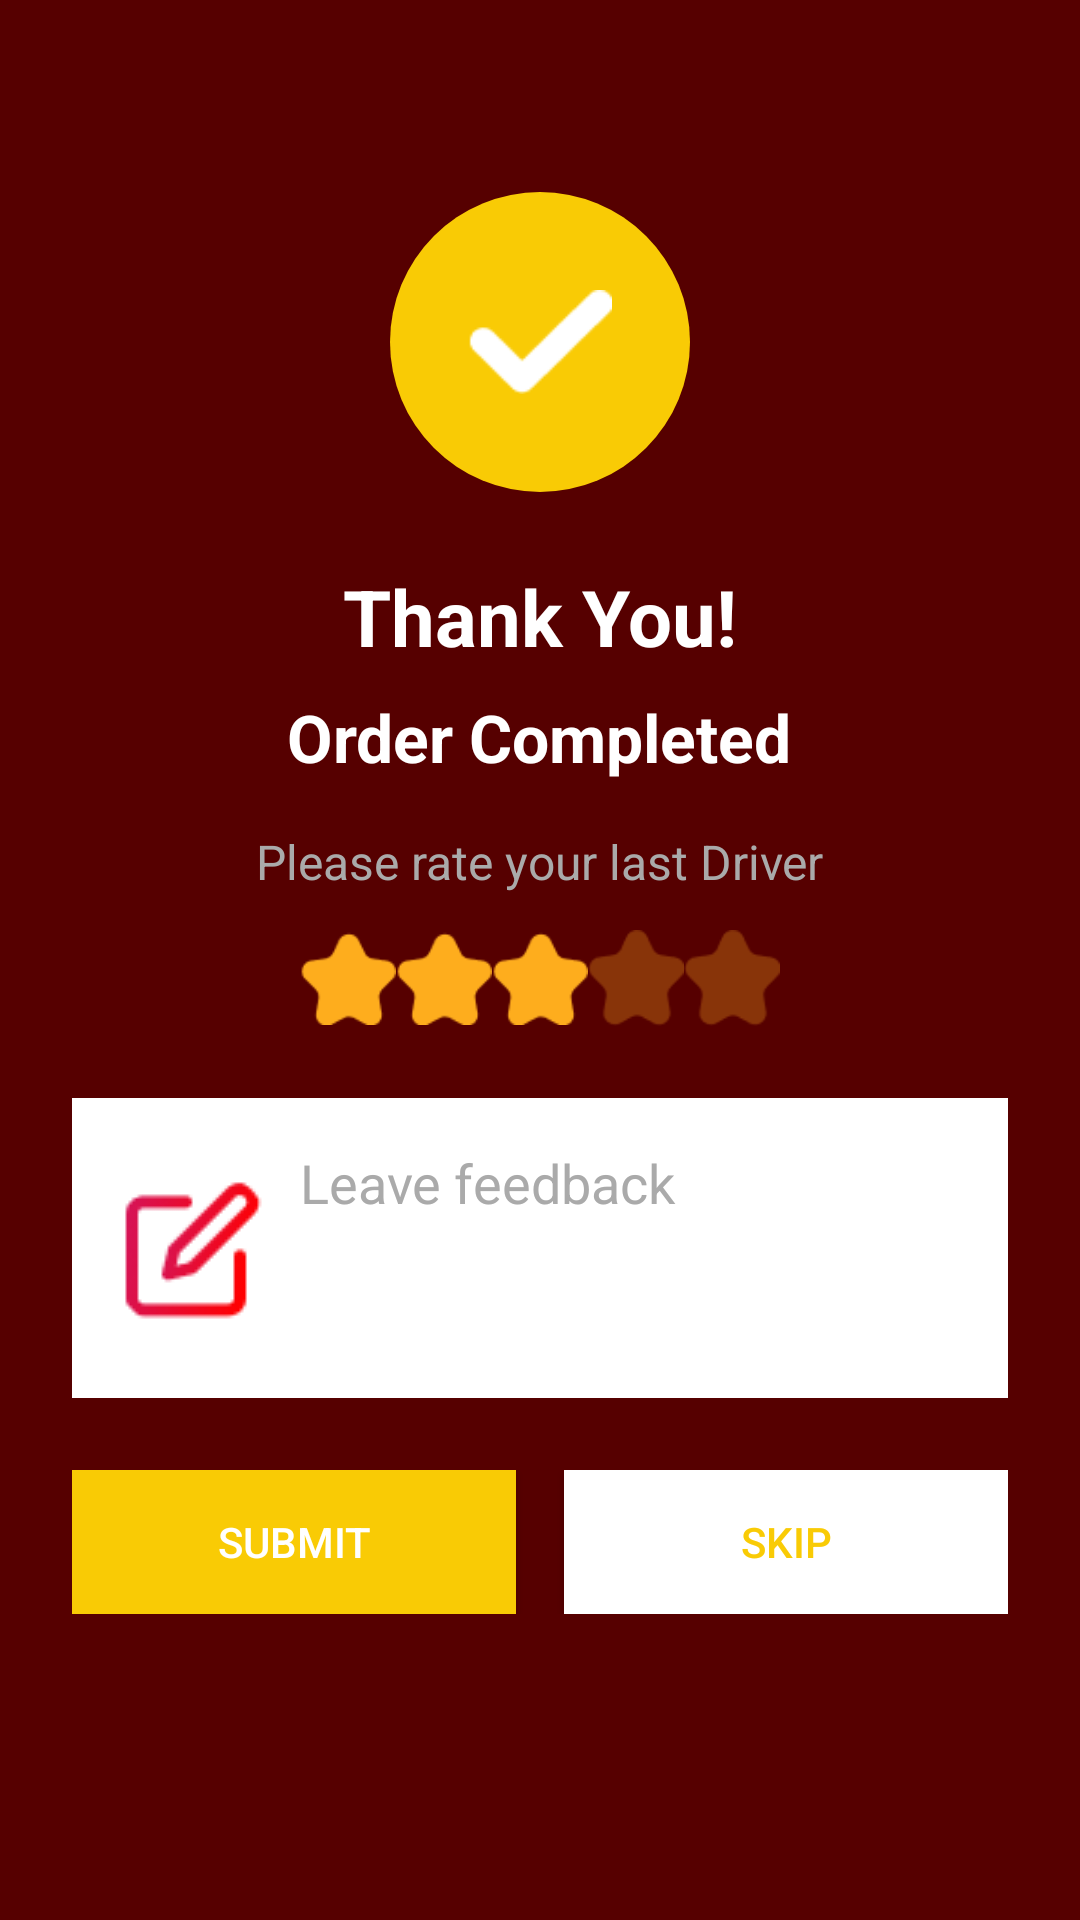

Named icons in this screenshot (1080 x 1920) and their centers, (x=x, y=y):
star: (x=636, y=977), (x=732, y=977), (x=348, y=979), (x=444, y=979), (x=540, y=979)
tik: (x=540, y=342)
